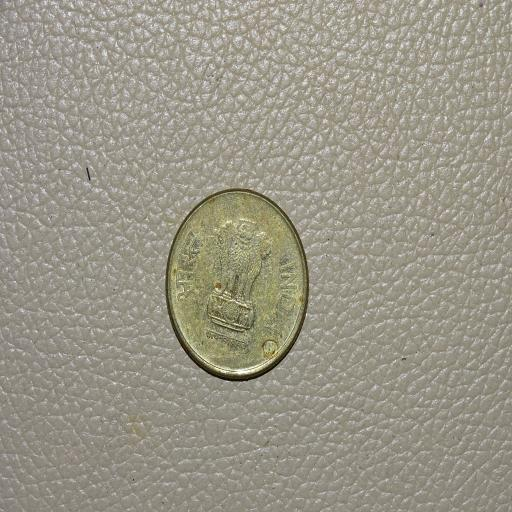rupee5: (162, 188, 311, 384)
